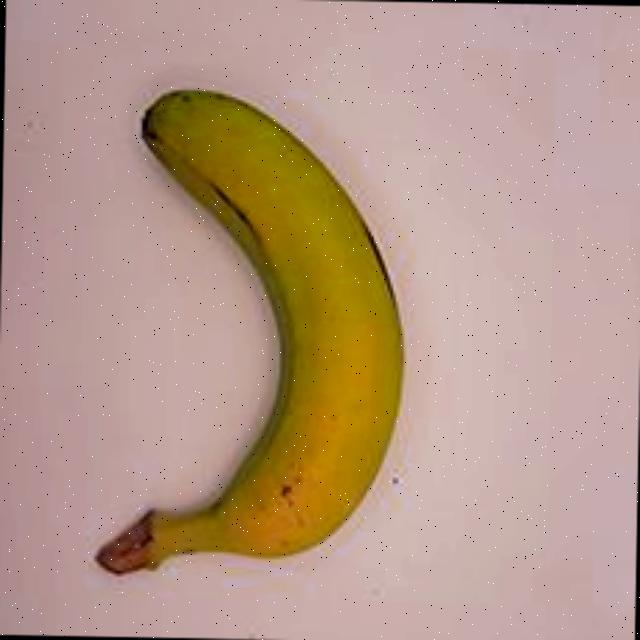Unripe: (66, 34, 423, 614)
